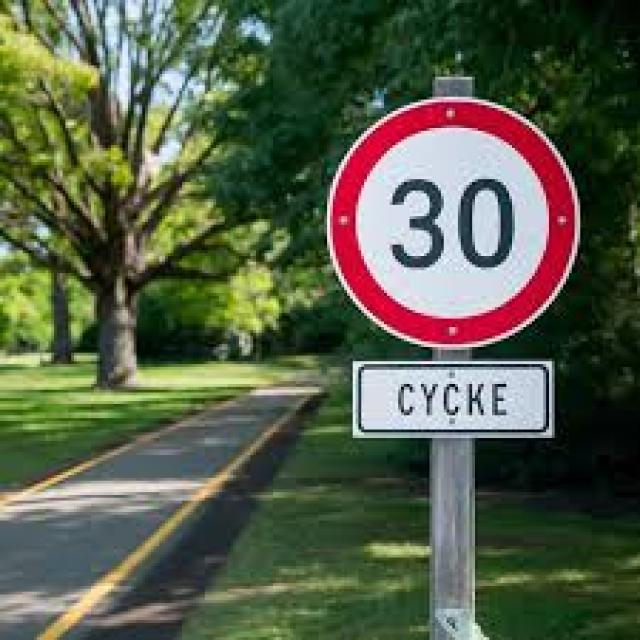Speed limit 30: (323, 92, 584, 351)
